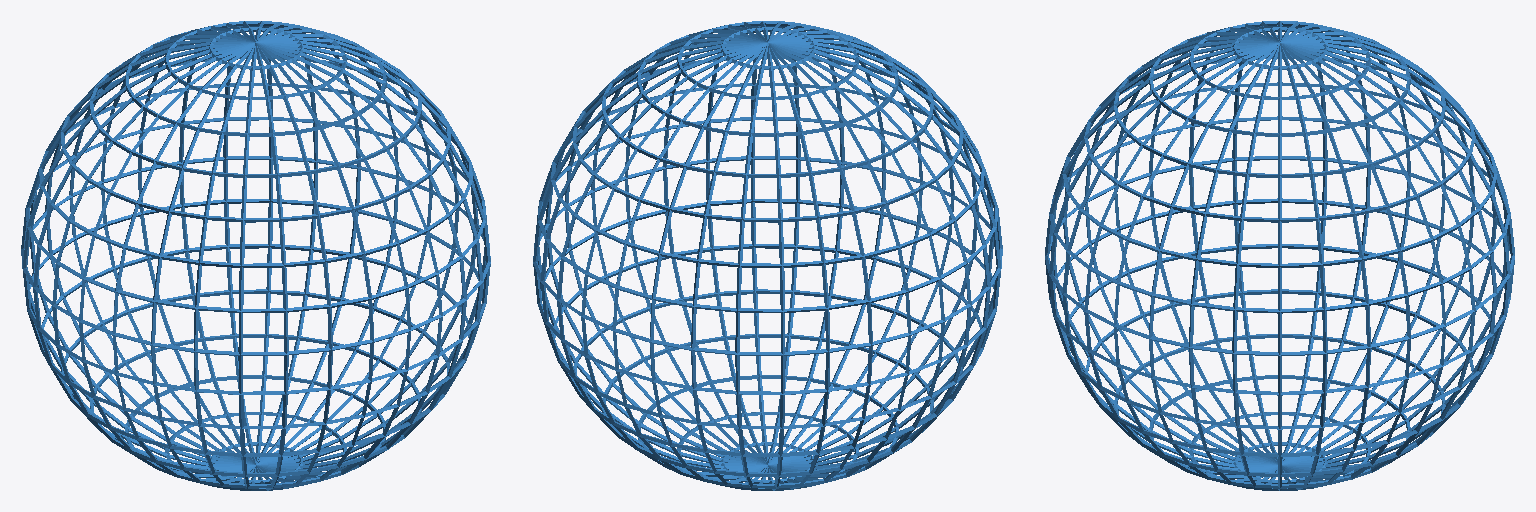
File: globe.obj
The picture shows the model from 3 angles: view 1: azimuth 30°, elevation 25°; view 2: azimuth 150°, elevation 25°; view 3: azimuth 270°, elevation 25°; orthographic projection.
Parts seen in each view (by area): view 1: Sphere; view 2: Sphere; view 3: Sphere.
Boxes of the visible parts, box(x1,y1,x2,y2) form: Sphere: box(21, 21, 490, 490); Sphere: box(533, 21, 1002, 490); Sphere: box(1045, 21, 1514, 490).
Size of the model in its own units: 2.02 by 2.02 by 2.02.